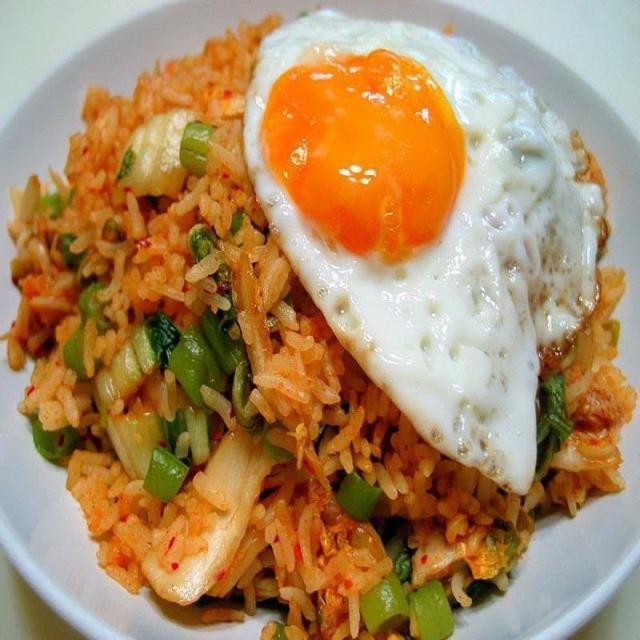Nasi Goreng: (29, 46, 616, 564)
